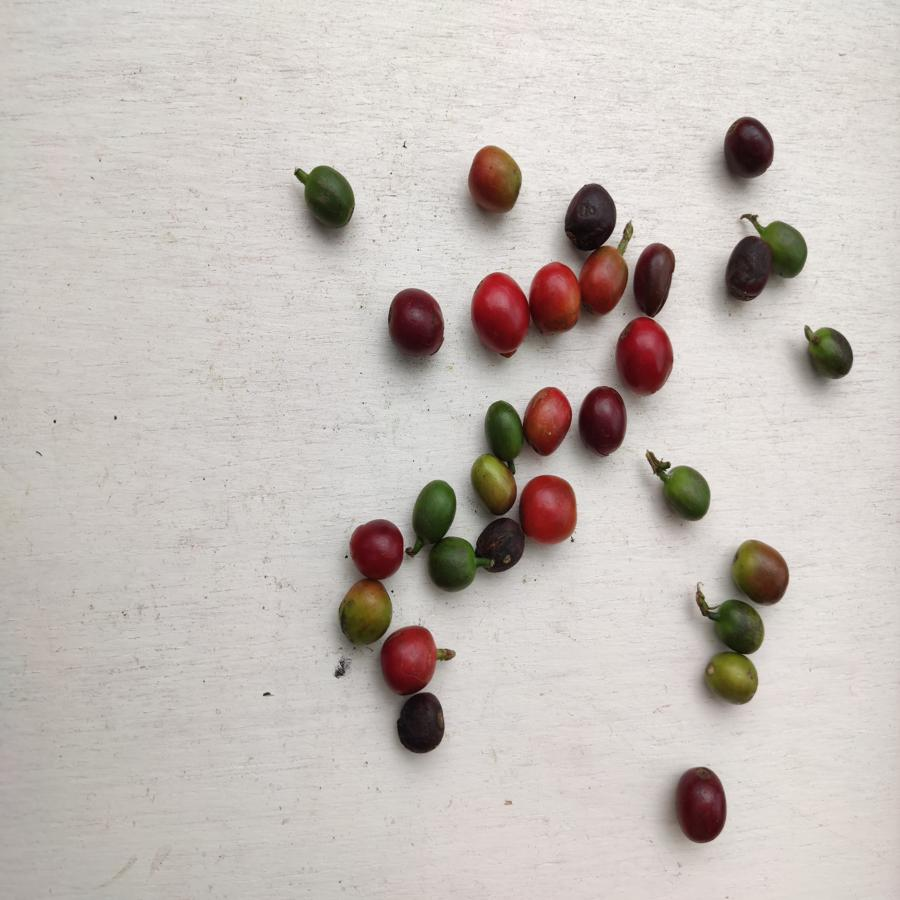Inmaduro: (300, 163, 358, 231), (798, 324, 858, 380), (709, 598, 768, 654), (657, 463, 712, 521), (409, 480, 459, 541), (426, 536, 480, 591), (485, 400, 524, 460), (772, 220, 809, 276)
Maduro: (471, 268, 529, 357), (615, 315, 673, 394), (530, 259, 585, 331), (379, 627, 441, 690), (522, 474, 577, 543), (523, 380, 573, 454), (581, 246, 628, 316)
Pinton: (731, 539, 789, 607), (468, 145, 524, 213), (337, 578, 391, 645), (702, 652, 763, 706), (470, 455, 515, 514)
Sobremaduro: (384, 286, 454, 359), (675, 763, 732, 846), (578, 385, 633, 455), (562, 182, 617, 249), (721, 115, 776, 179), (346, 519, 403, 578), (724, 233, 772, 302), (395, 693, 448, 754), (633, 243, 676, 317), (475, 517, 525, 569)
